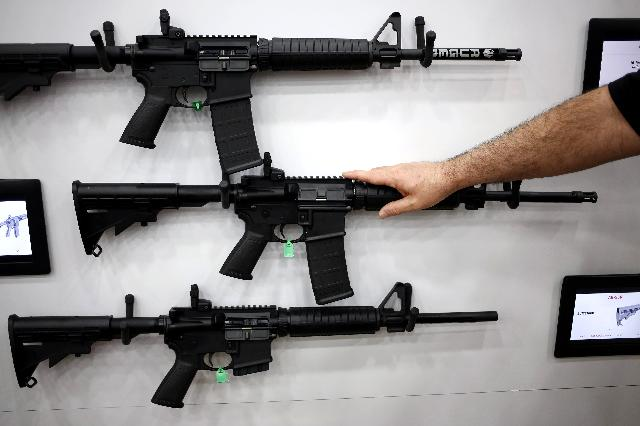rifle: (0, 0, 532, 177), (56, 163, 618, 306), (0, 279, 516, 426)
